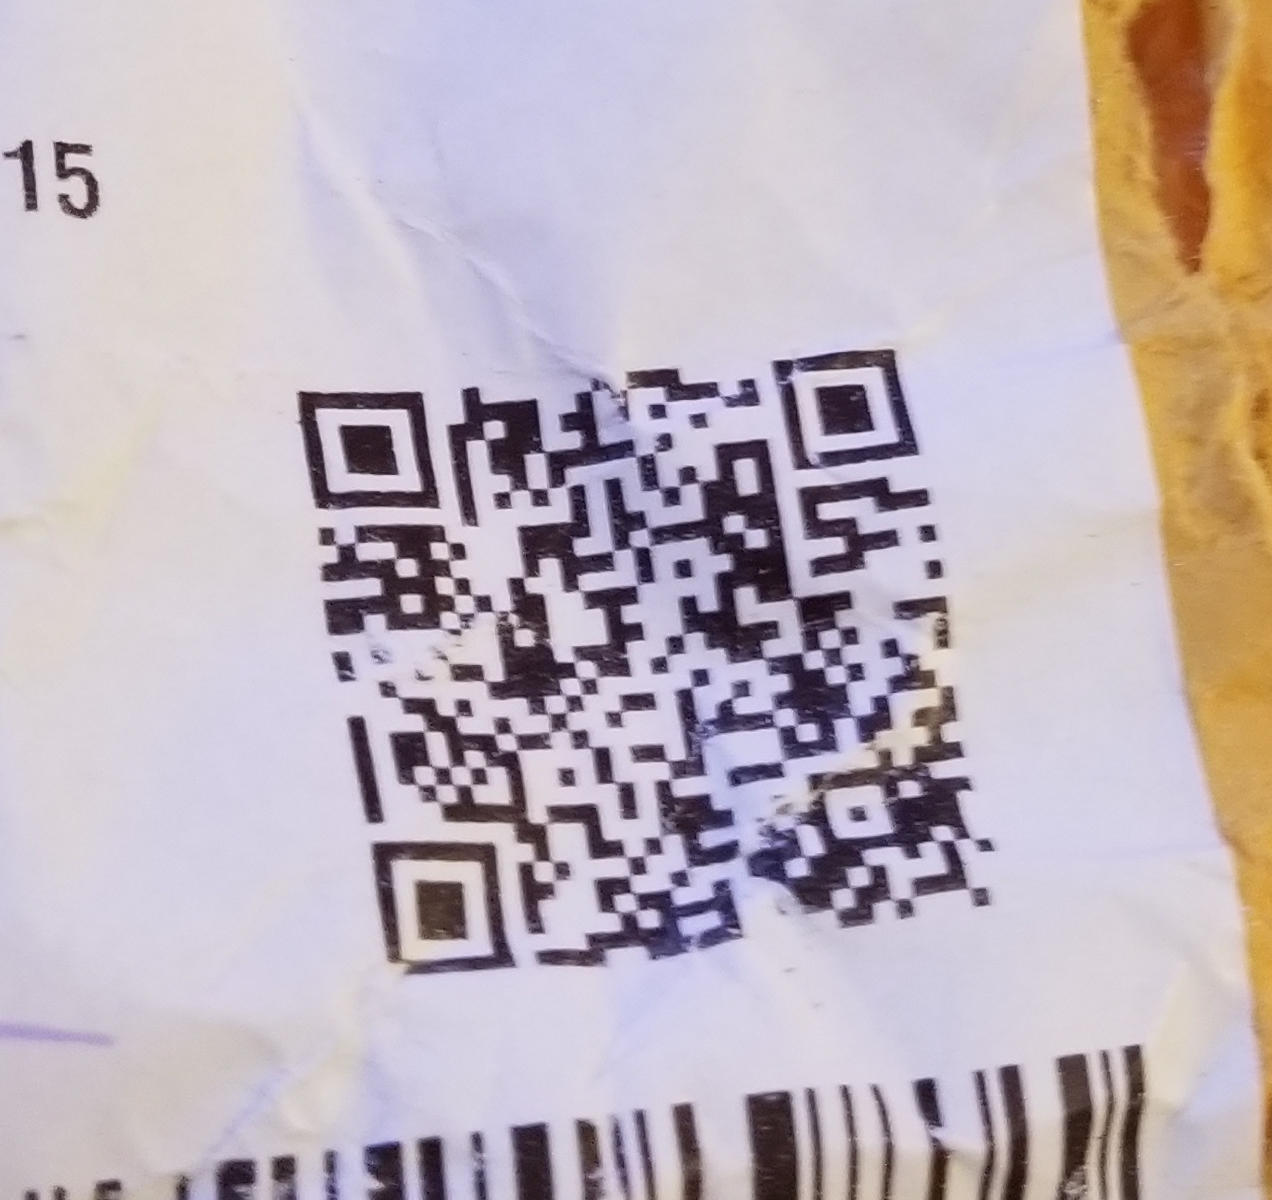QR_CODE: (283, 321, 1022, 991)
